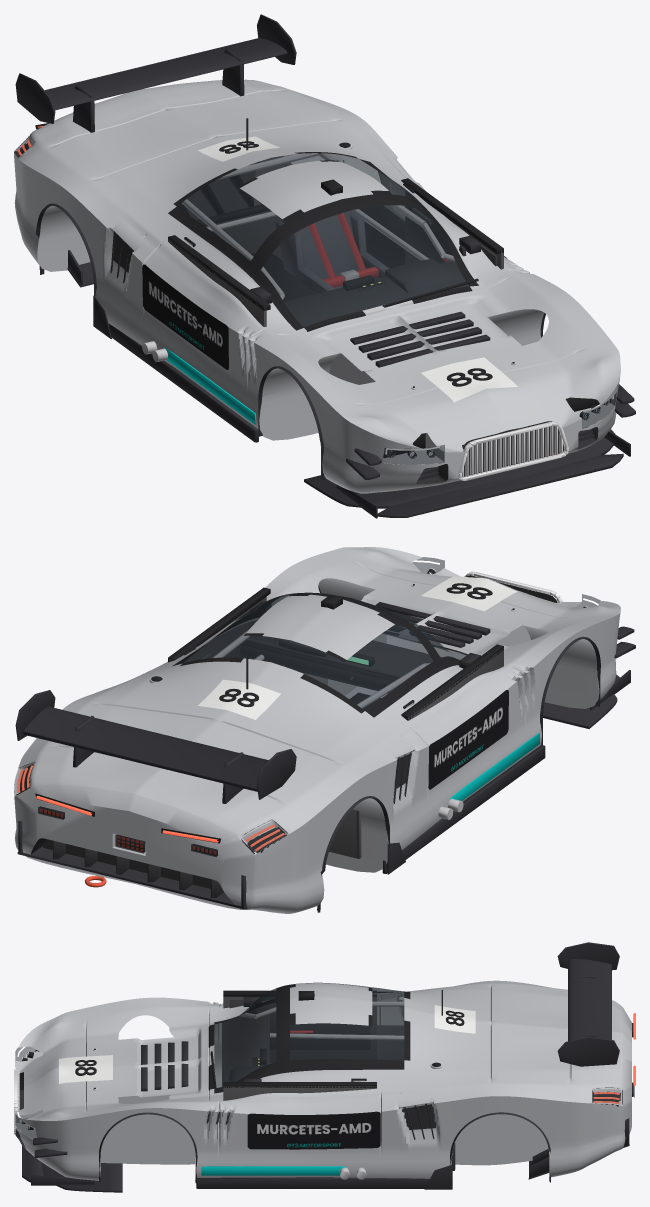
Rendered from murcetes_amd_gt3.glb.
The picture shows the model from 3 angles, top to bottom: view 1: azimuth 30°, elevation 25°; view 2: azimuth 150°, elevation 25°; view 3: azimuth 270°, elevation 25°; orthographic projection. The views are drawn at different scales.
Parts seen in each view (by area): view 1: murcetes_amd_gt3; view 2: murcetes_amd_gt3; view 3: murcetes_amd_gt3.
Part boxes in pixels (x1,y1,x2,y2): murcetes_amd_gt3: (14, 14, 635, 518); murcetes_amd_gt3: (14, 547, 635, 913); murcetes_amd_gt3: (14, 942, 635, 1192).
Size of the model in its own units: 2.21 by 1.27 by 4.85.
Materials: 25 (1 with a texture image).
